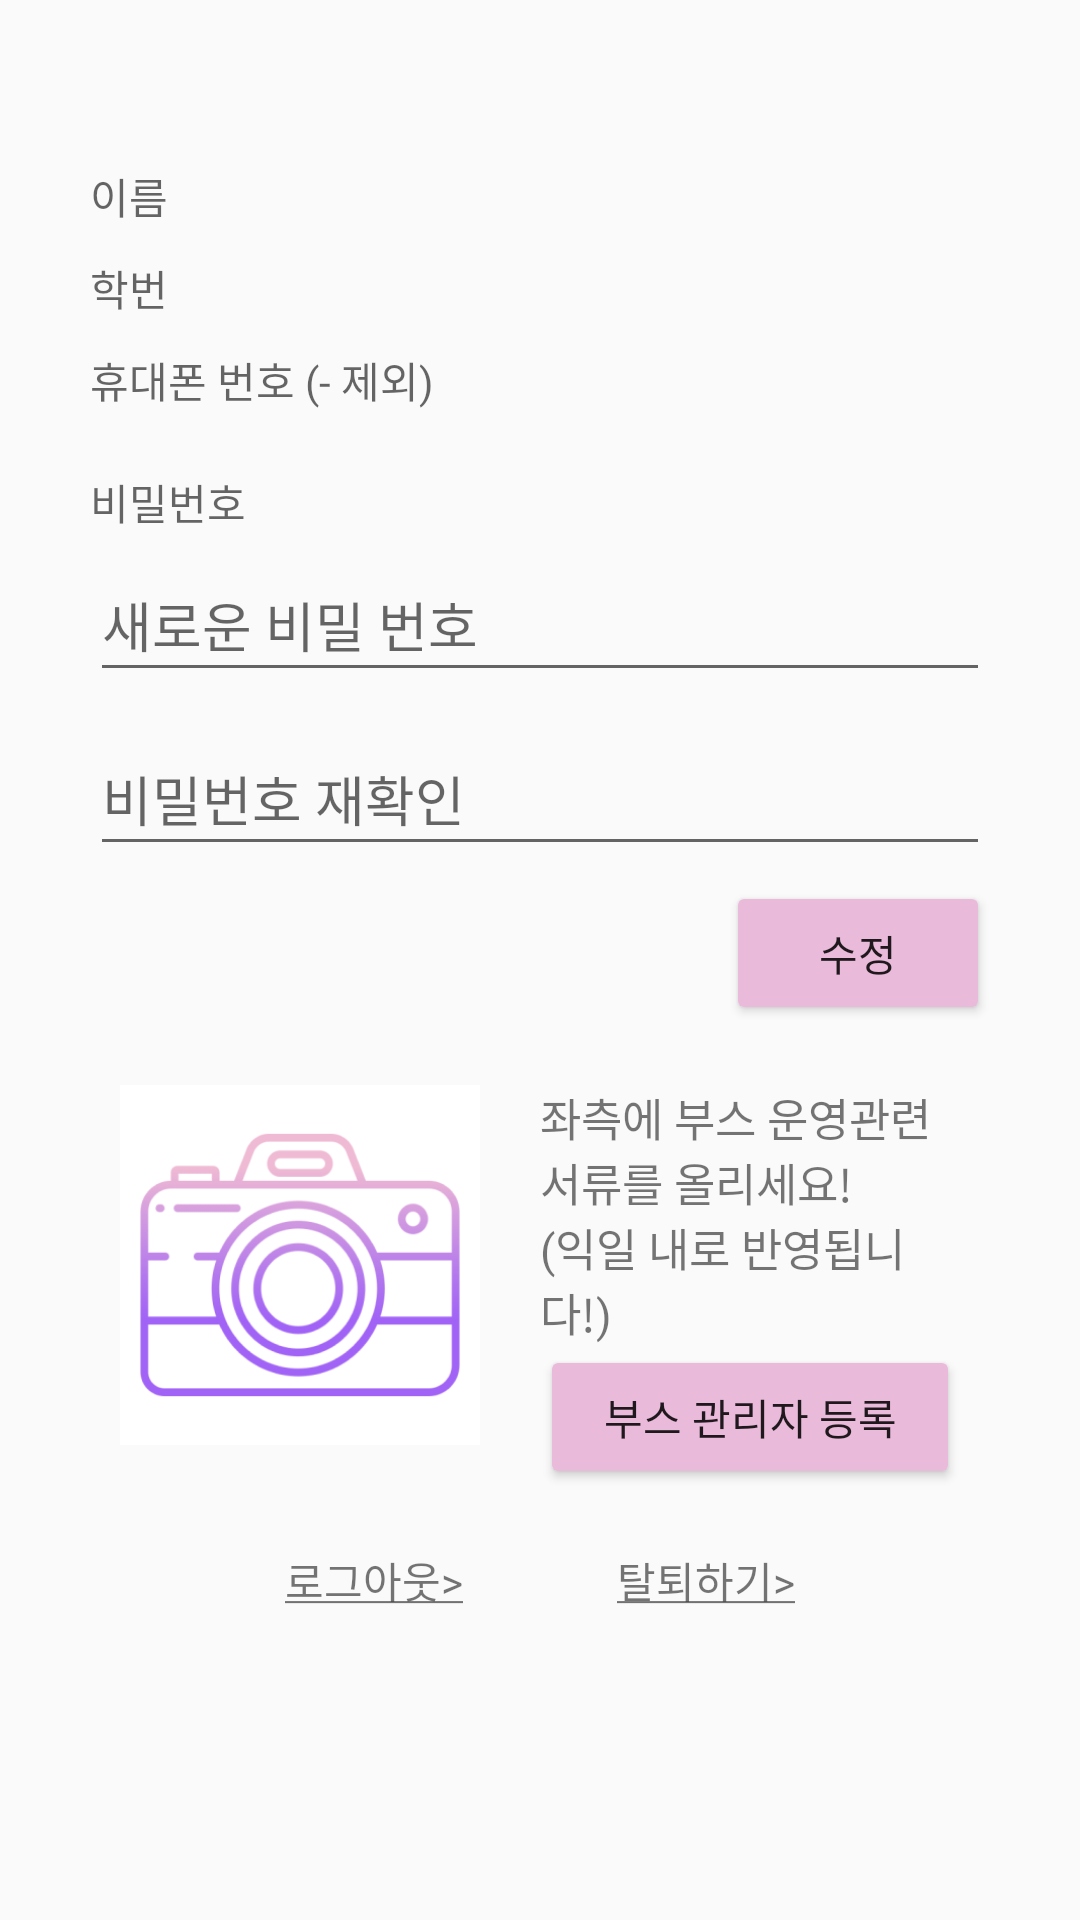

Point at icon controls on the screen. Image size 1080px x 1920px, points as (x=x, y=y).
이미지 등록: (x=300, y=1265)
